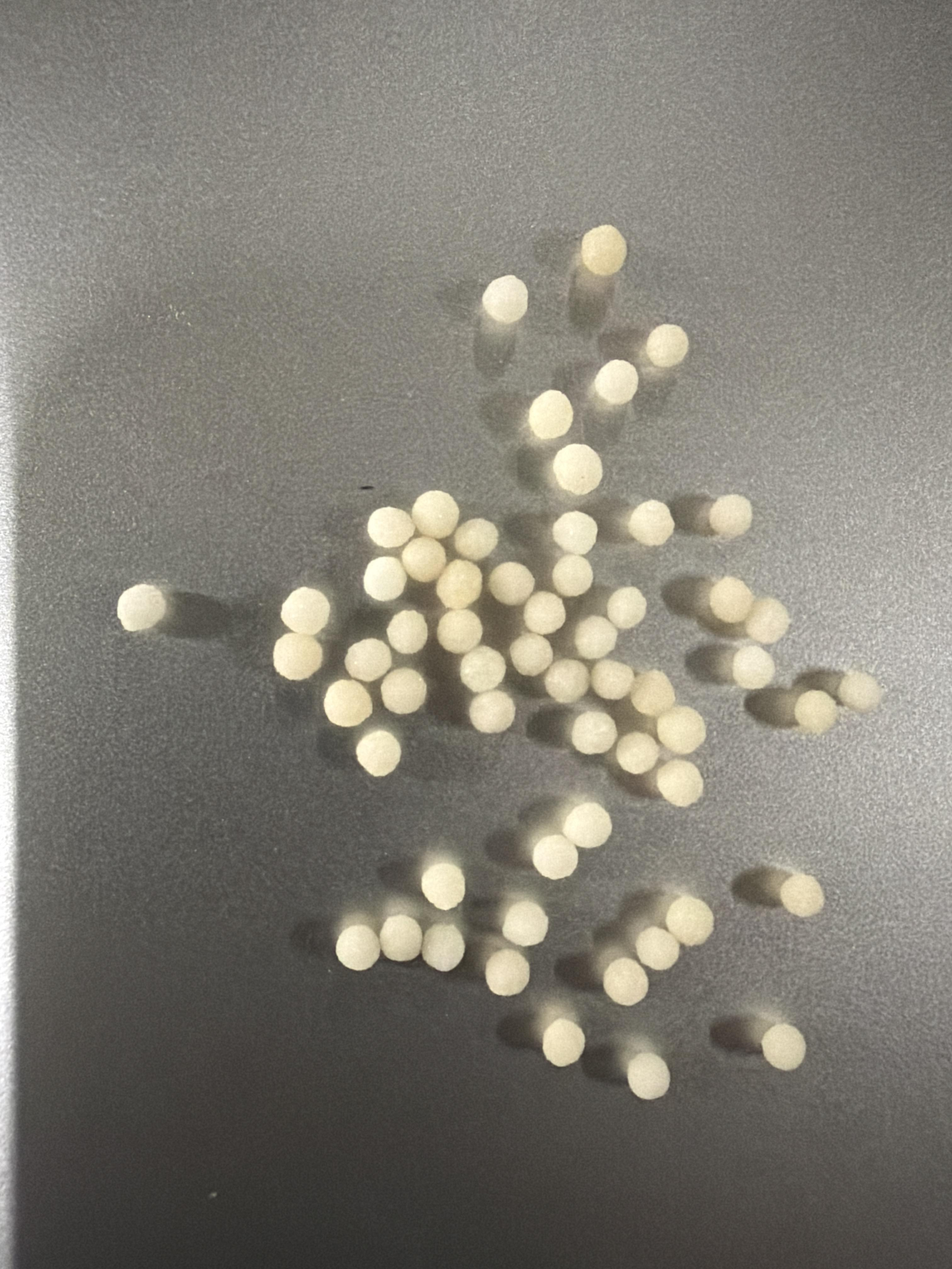pill: (552, 443, 603, 496), (665, 895, 714, 946), (580, 224, 627, 277), (657, 705, 706, 755), (117, 583, 168, 631), (562, 801, 612, 849), (273, 632, 323, 680), (280, 587, 330, 635), (655, 758, 703, 807), (323, 679, 372, 727), (411, 490, 459, 539), (602, 956, 649, 1006), (436, 559, 483, 609), (482, 275, 528, 324), (528, 389, 573, 439), (484, 948, 530, 996), (627, 499, 675, 545), (335, 923, 381, 971), (421, 861, 465, 911), (460, 645, 506, 692), (592, 359, 638, 406), (761, 1023, 806, 1071), (487, 561, 535, 606), (356, 729, 401, 777), (422, 922, 465, 972), (502, 900, 548, 946), (532, 834, 578, 880), (630, 670, 675, 717), (708, 577, 753, 624), (381, 667, 426, 714), (401, 536, 446, 583), (344, 638, 392, 682), (542, 1018, 585, 1067), (730, 644, 775, 690), (745, 598, 790, 644), (544, 658, 589, 704), (552, 510, 598, 555), (436, 609, 482, 654), (570, 710, 617, 754), (468, 690, 515, 734), (627, 1052, 670, 1100), (379, 914, 422, 962), (635, 926, 680, 971), (779, 873, 824, 917), (573, 615, 617, 660), (363, 556, 406, 602), (386, 608, 428, 655), (367, 507, 414, 549), (615, 731, 659, 775), (794, 689, 837, 734), (509, 633, 554, 676), (453, 518, 498, 561), (645, 324, 688, 368), (836, 671, 881, 713), (708, 495, 751, 538), (523, 591, 566, 634), (552, 553, 593, 597), (591, 659, 634, 700), (606, 587, 646, 629)
